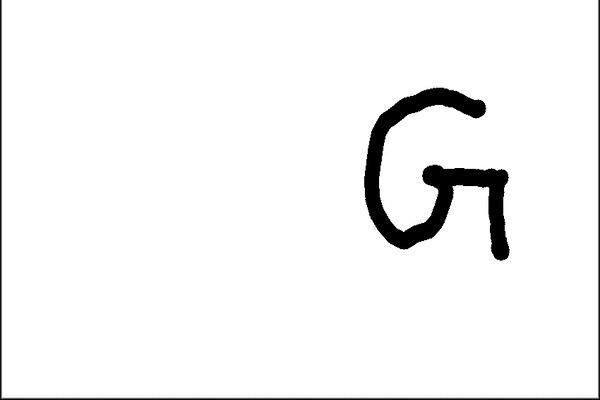G: (359, 83, 516, 263)
